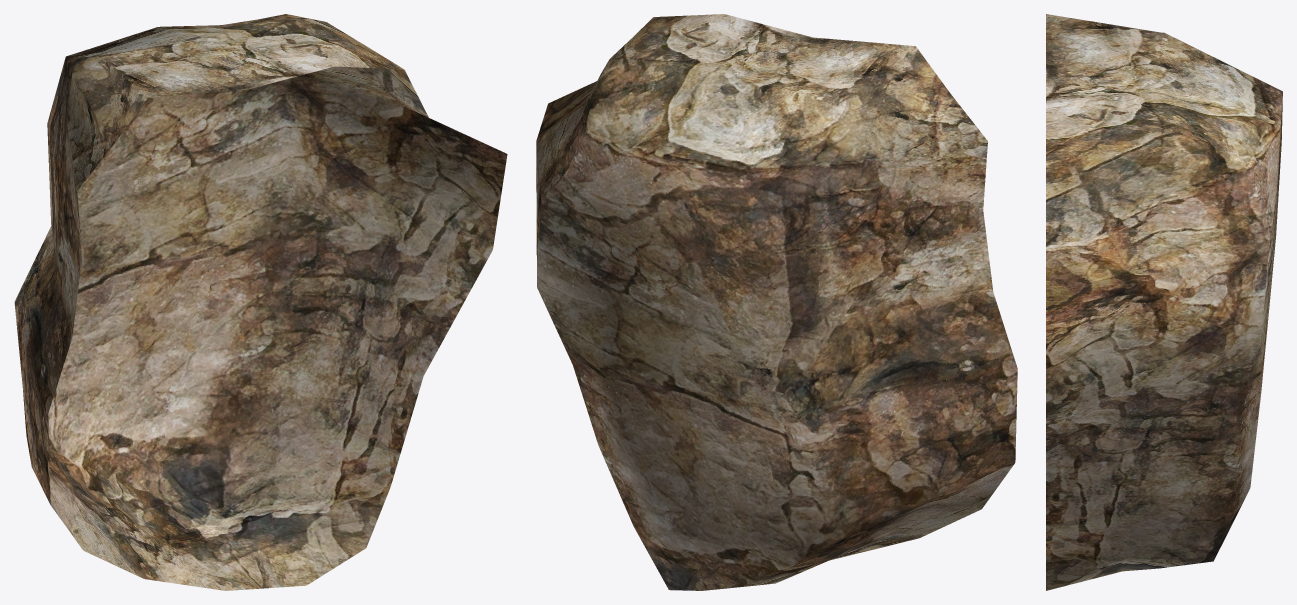
File: ex_DungeonSet_Rock_01C.fbx
3 renders of one model, left to right at view 1: azimuth 30°, elevation 25°; view 2: azimuth 150°, elevation 25°; view 3: azimuth 270°, elevation 25°, orthographic. The views are drawn at different scales.
Visible parts, largest first — view 1: ex_DungeonSet_Rock_01C; view 2: ex_DungeonSet_Rock_01C; view 3: ex_DungeonSet_Rock_01C.
Part boxes in pixels (bbox=[...]): ex_DungeonSet_Rock_01C: bbox=[14, 14, 507, 590]; ex_DungeonSet_Rock_01C: bbox=[536, 14, 1017, 590]; ex_DungeonSet_Rock_01C: bbox=[1046, 14, 1282, 590].
Size of the model in its own units: 1180 by 1293 by 558.
